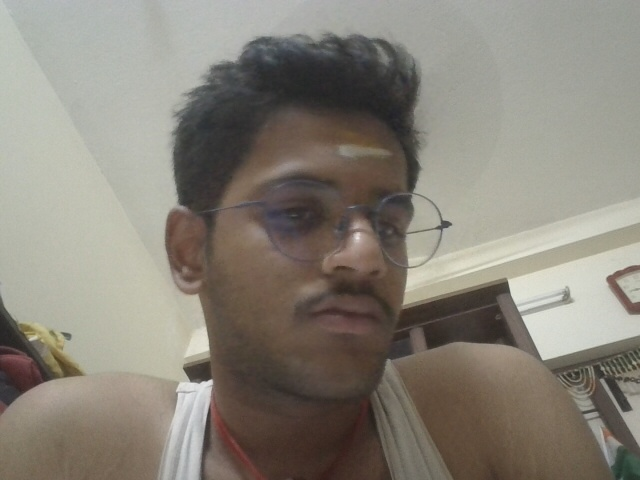real: (176, 102, 442, 368)
